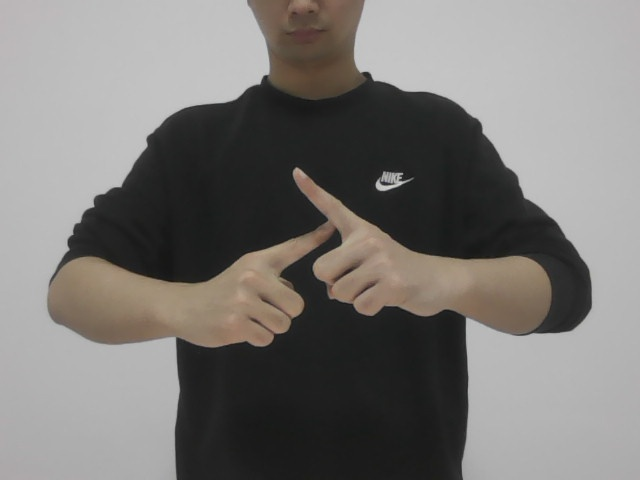peason: (204, 165, 416, 358)
